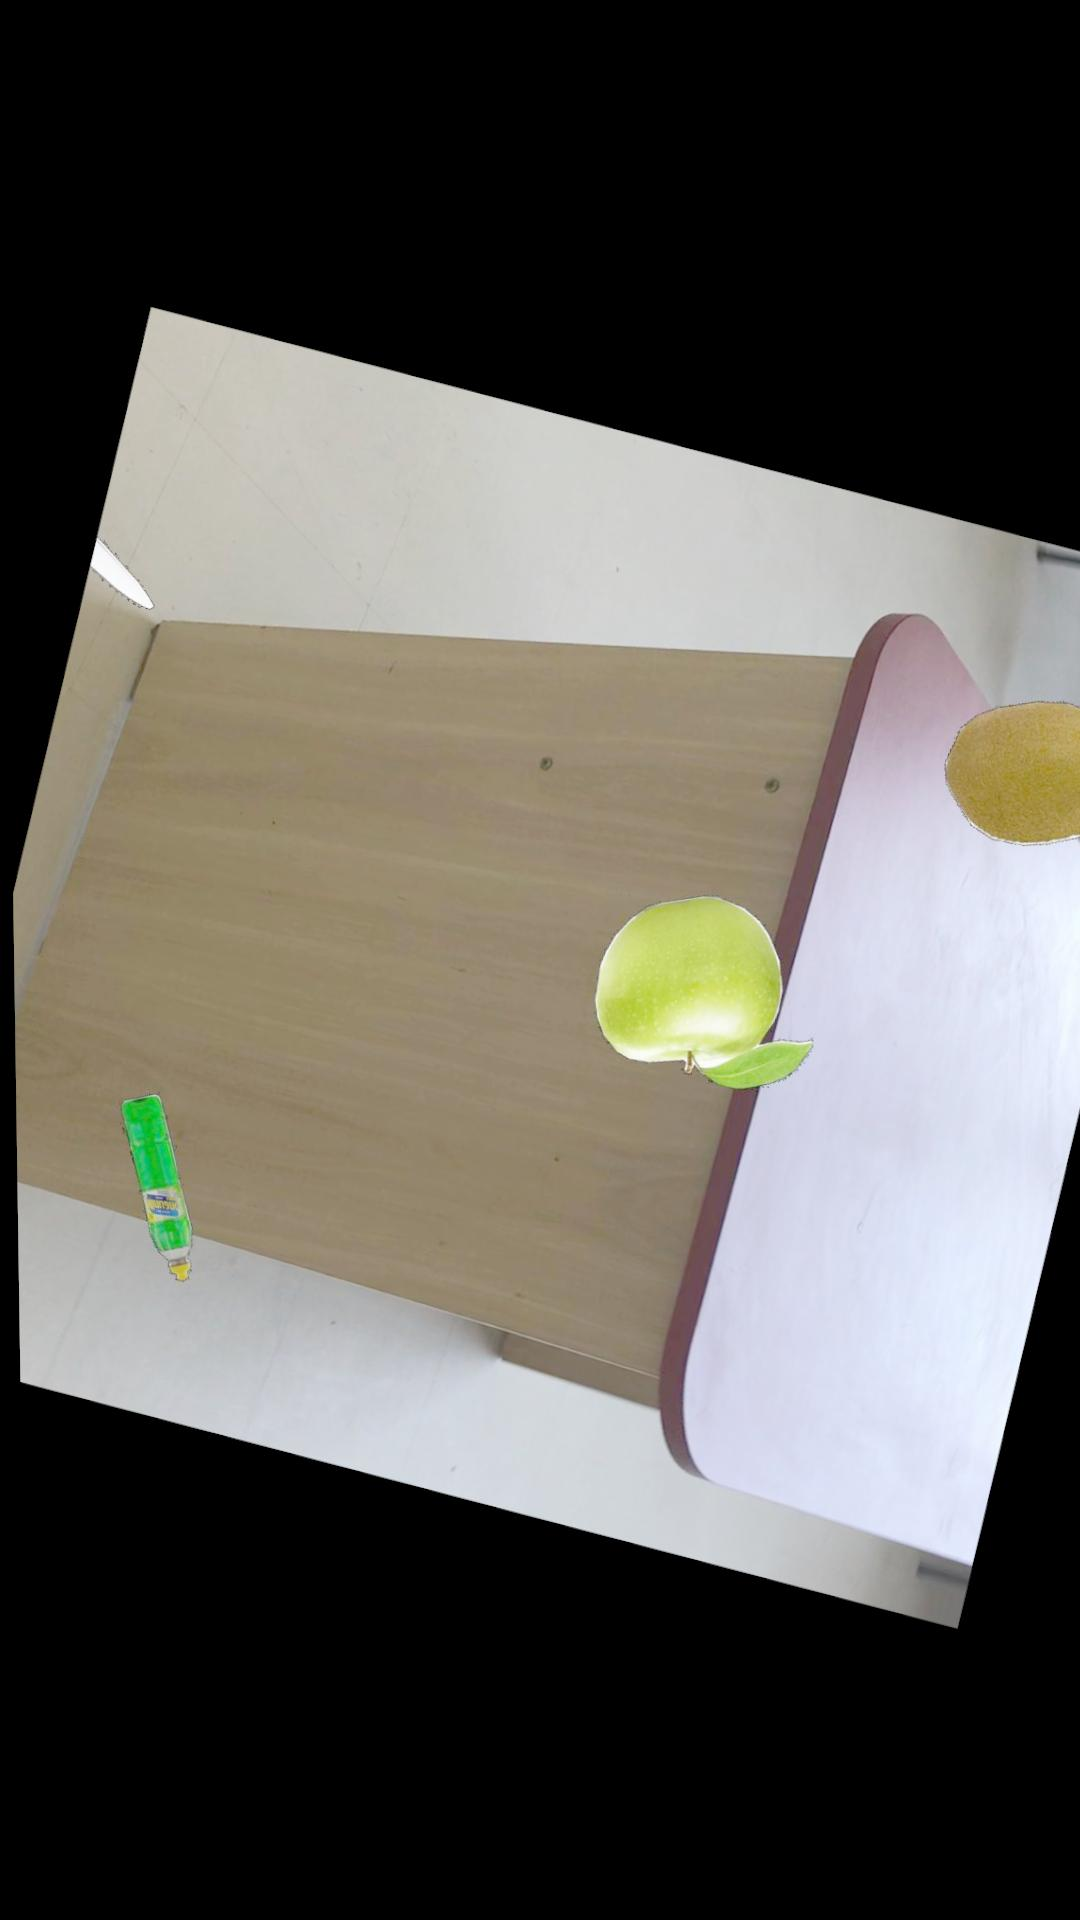cleaner: (117, 1092, 190, 1280)
green apple: (592, 891, 811, 1087)
kiwi: (943, 696, 1080, 841)
knife: (88, 535, 153, 608)
